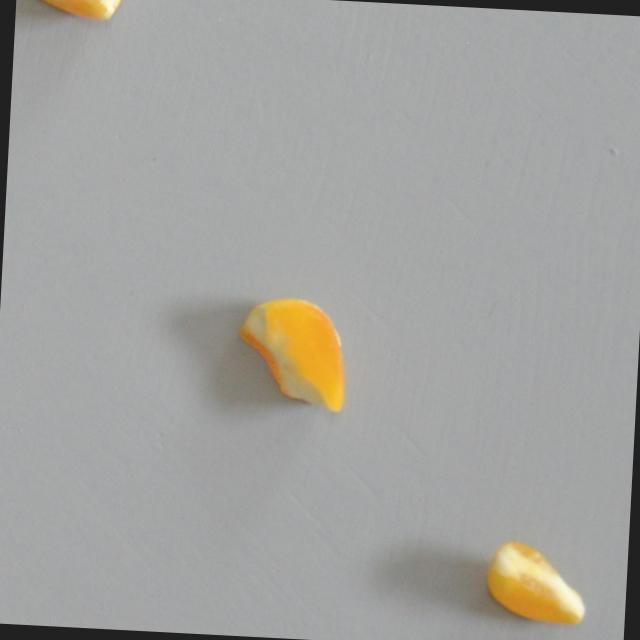dañado: (231, 281, 364, 429), (476, 530, 602, 636), (15, 0, 126, 25)
